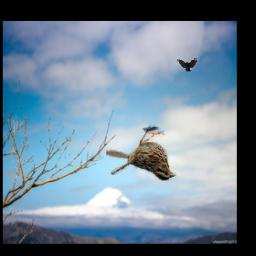Crow: (176, 56, 197, 71)
Sparrow: (105, 125, 176, 181)
